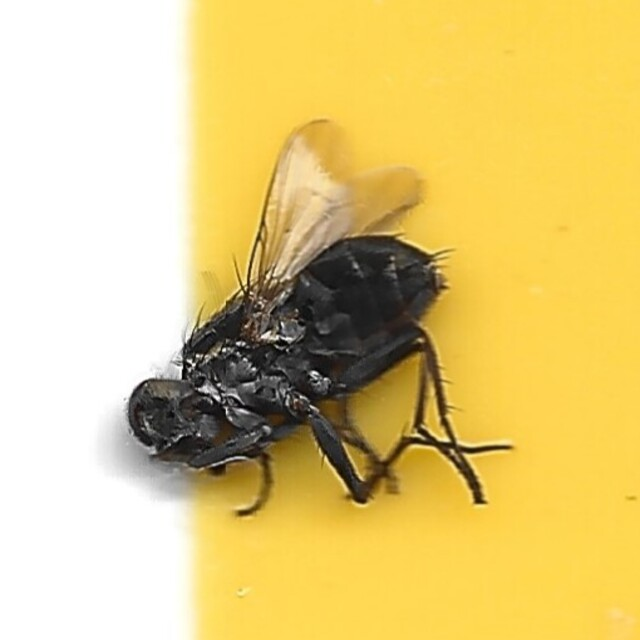Brachycera: (125, 119, 515, 521)
